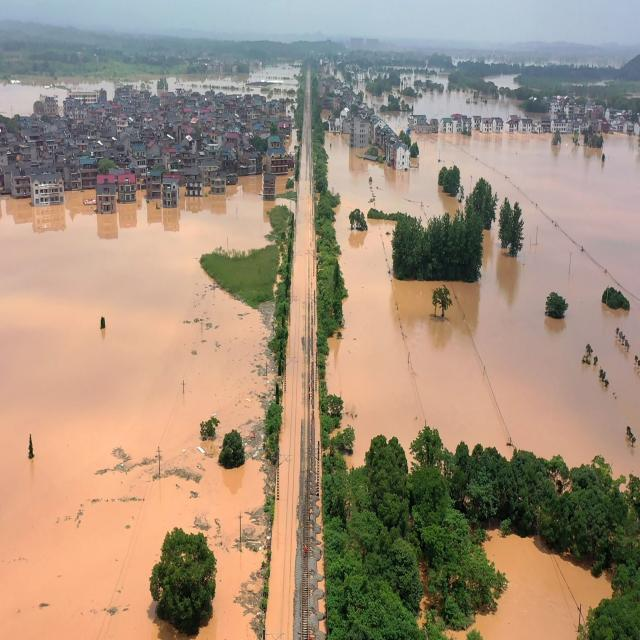flood: (0, 176, 275, 640), (329, 133, 640, 474), (265, 66, 318, 640), (480, 536, 611, 640), (392, 72, 521, 120), (169, 65, 299, 98), (0, 80, 115, 114), (356, 74, 389, 110), (485, 73, 518, 88), (384, 113, 410, 130)
house: (32, 176, 66, 204), (96, 180, 116, 213), (160, 176, 178, 208), (394, 141, 412, 172), (267, 149, 288, 173), (412, 115, 438, 134), (352, 118, 369, 147), (79, 161, 97, 188), (120, 174, 136, 202), (144, 170, 160, 198), (12, 174, 31, 197), (132, 145, 148, 168), (452, 114, 472, 131), (264, 174, 276, 199), (211, 174, 226, 194), (186, 178, 202, 196), (550, 119, 568, 132), (328, 118, 342, 132), (520, 118, 532, 133), (482, 118, 493, 133), (269, 136, 280, 150), (442, 119, 452, 133), (472, 115, 482, 129), (494, 118, 504, 132), (508, 118, 518, 132)
